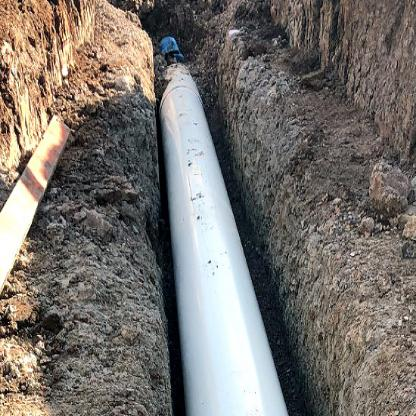PVC: (156, 64, 291, 415)
